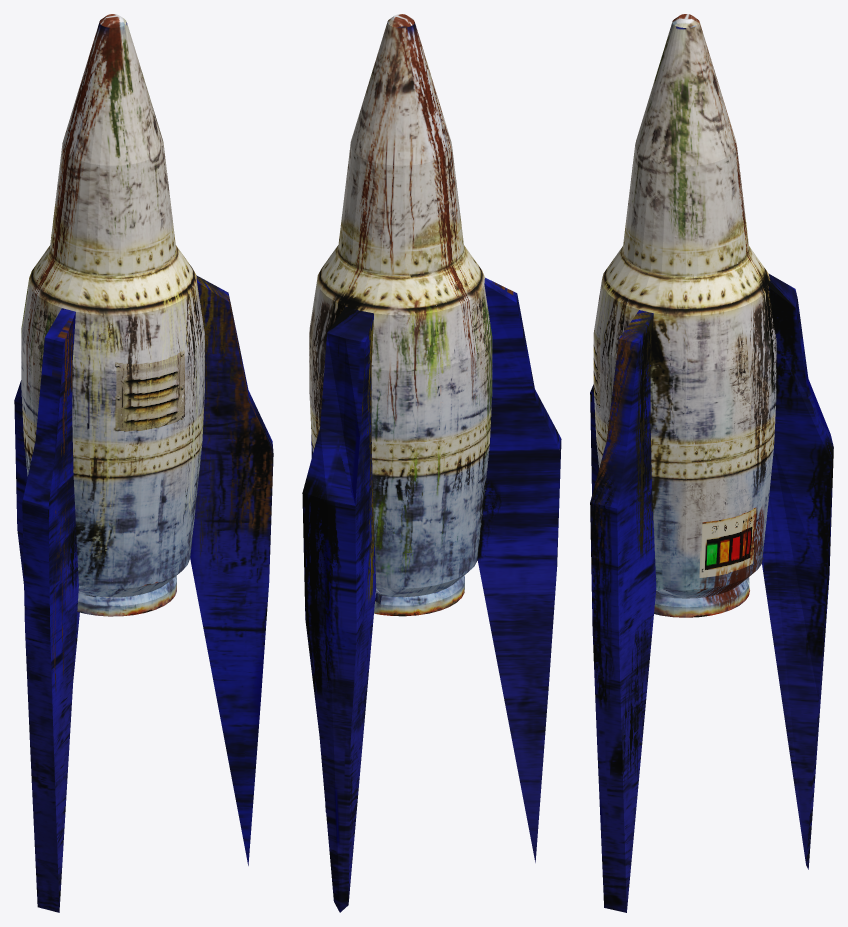
Rendered from Blue.ship.obj.
3 renders of one model, left to right at view 1: azimuth 30°, elevation 25°; view 2: azimuth 150°, elevation 25°; view 3: azimuth 270°, elevation 25°, orthographic.
Visible parts, largest first — view 1: Sphere; view 2: Sphere; view 3: Sphere.
Part boxes in pixels (x1,y1,x2,y2): Sphere: [14, 14, 273, 912]; Sphere: [302, 14, 561, 912]; Sphere: [590, 14, 833, 912].
Size of the model in its own units: 3.4 by 11.05 by 2.86.
